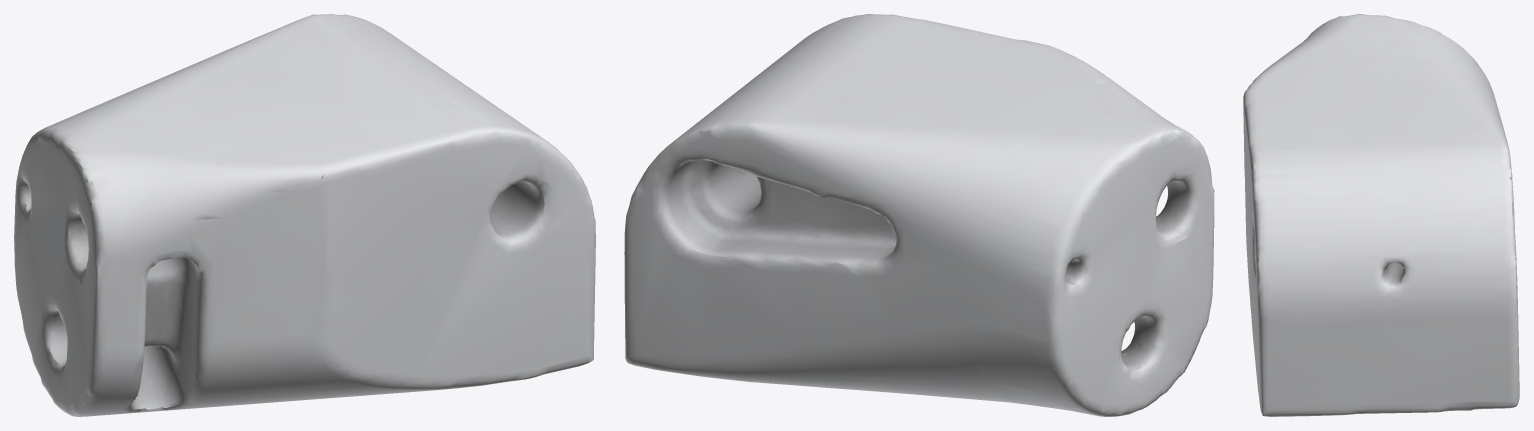
The model's file is left_thomb_to_palm.obj.
3 views of the same model, side by side, from view 1: azimuth 30°, elevation 25°; view 2: azimuth 150°, elevation 25°; view 3: azimuth 270°, elevation 25° (orthographic). The views are drawn at different scales.
Parts seen in each view (by area): view 1: left_thomb_to_palm; view 2: left_thomb_to_palm; view 3: left_thomb_to_palm.
Boxes of the visible parts, x1=… form: left_thomb_to_palm: x1=14, y1=14, x2=595, y2=416; left_thomb_to_palm: x1=624, y1=14, x2=1214, y2=416; left_thomb_to_palm: x1=1243, y1=14, x2=1519, y2=416.
Size of the model in its own units: 0.0345 by 0.0192 by 0.0213.
1 material, 1 textured.
